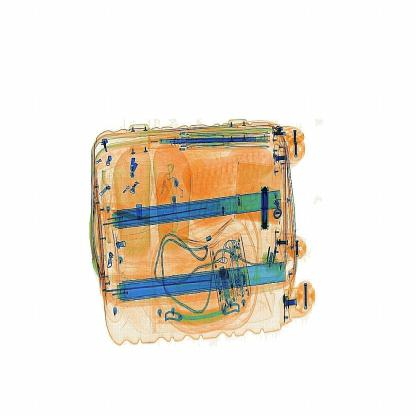scissors: (253, 180, 278, 235)
